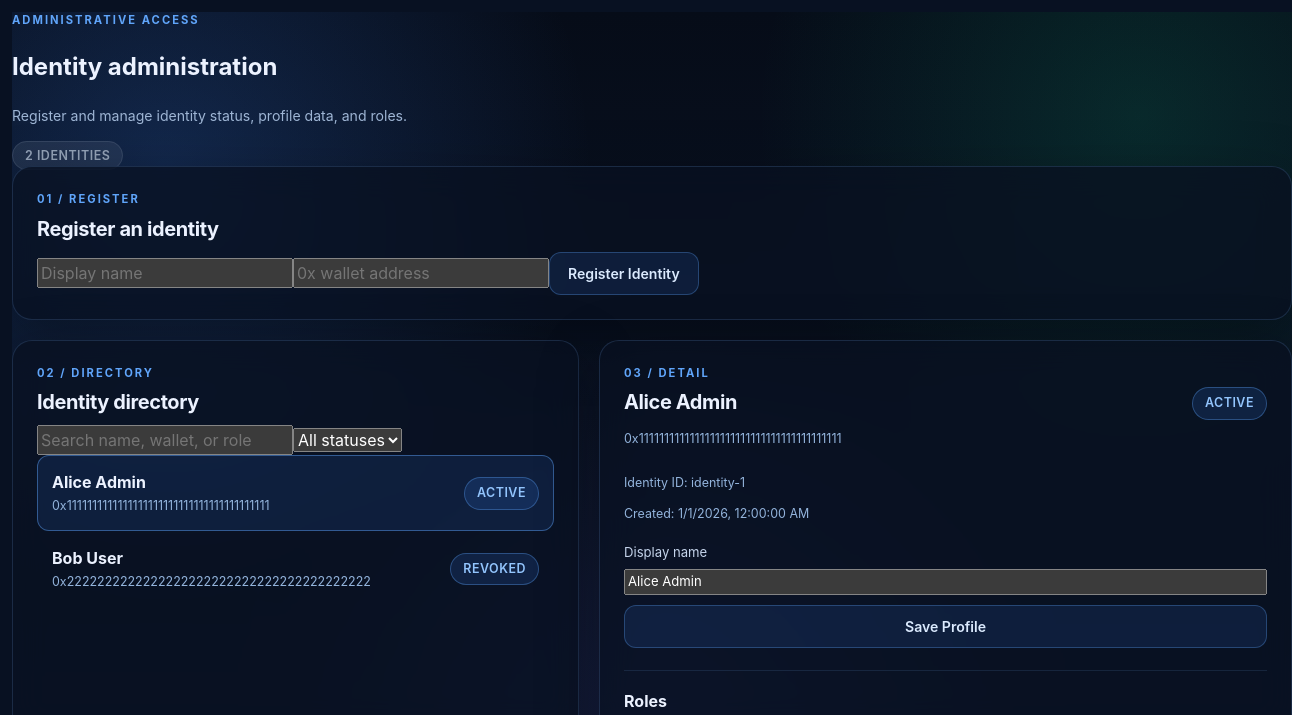
identity administration page › validates registration and refreshes after a successful mutation
The image size is (1292, 715).
Type "New Identity" into the field named "Identity display name".
click(165, 272); type("New Identity")  # box [37,258,293,288]
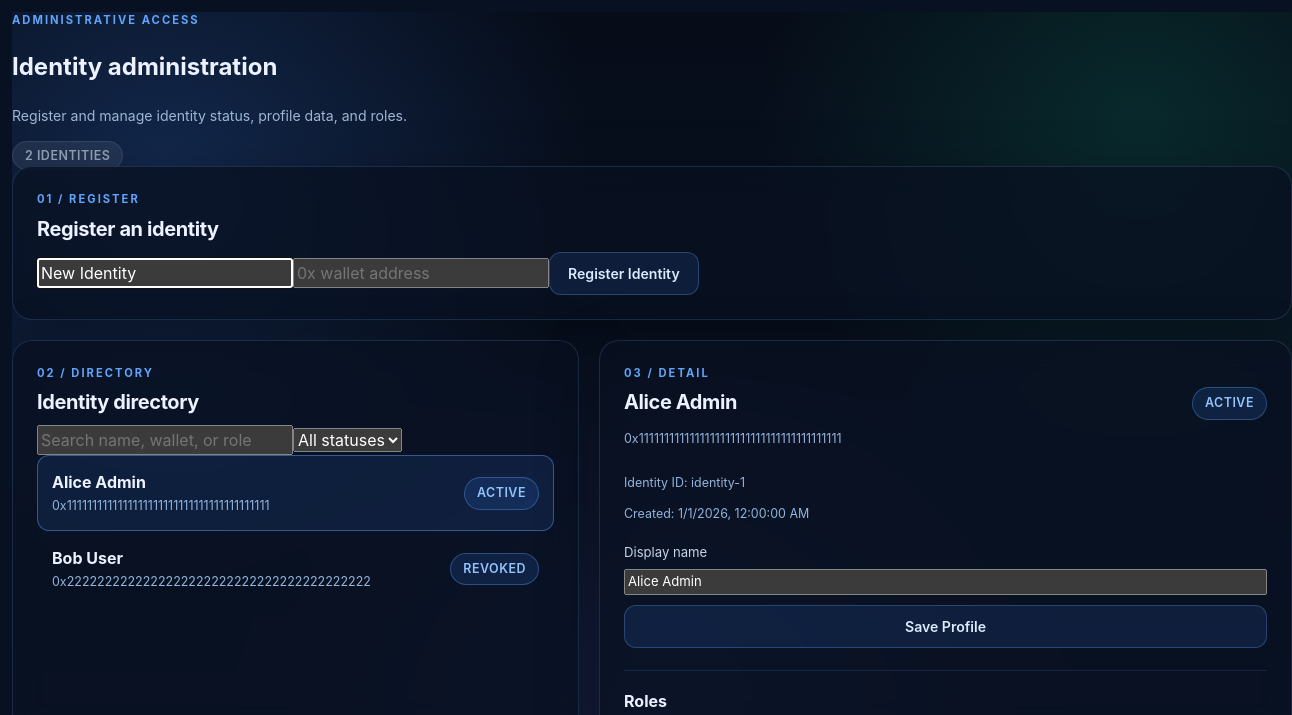
Type "not-a-wallet" into the field named "Identity wallet address".
click(421, 272); type("not-a-wallet")  # box [293,258,549,288]
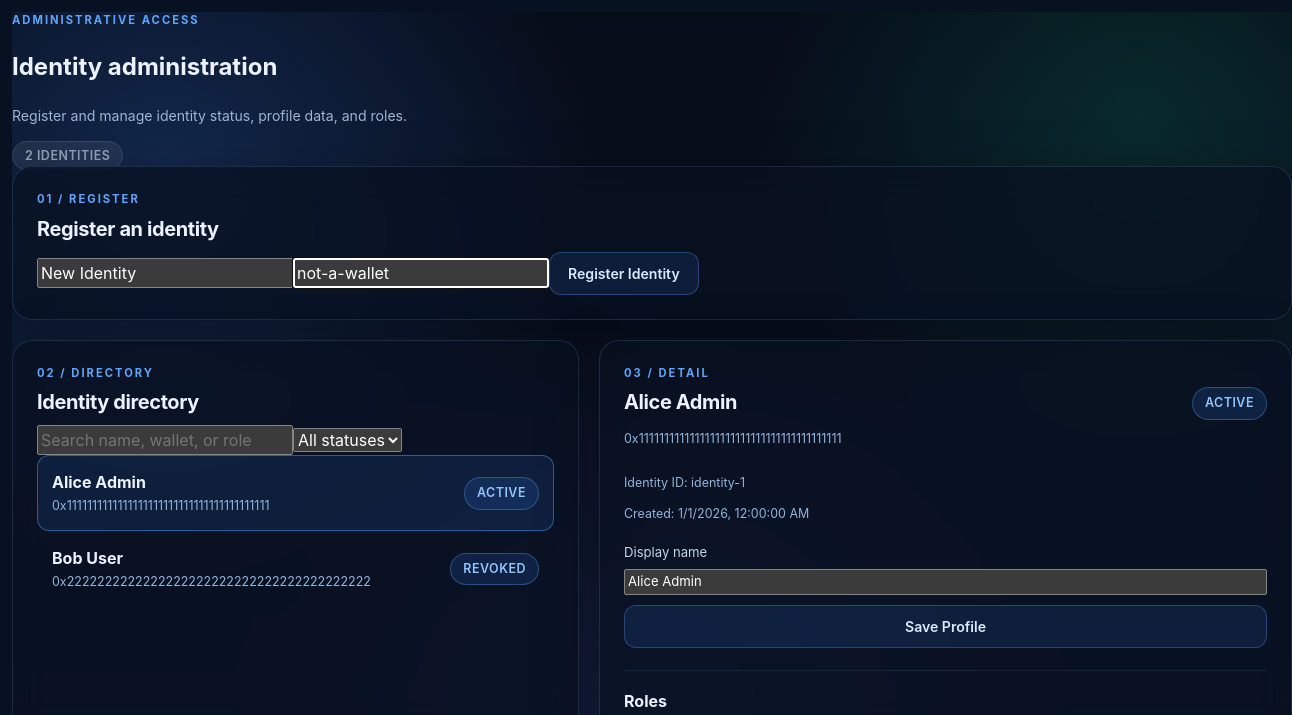
Click the button "Register identity".
click(624, 273)  # box [549,252,699,295]
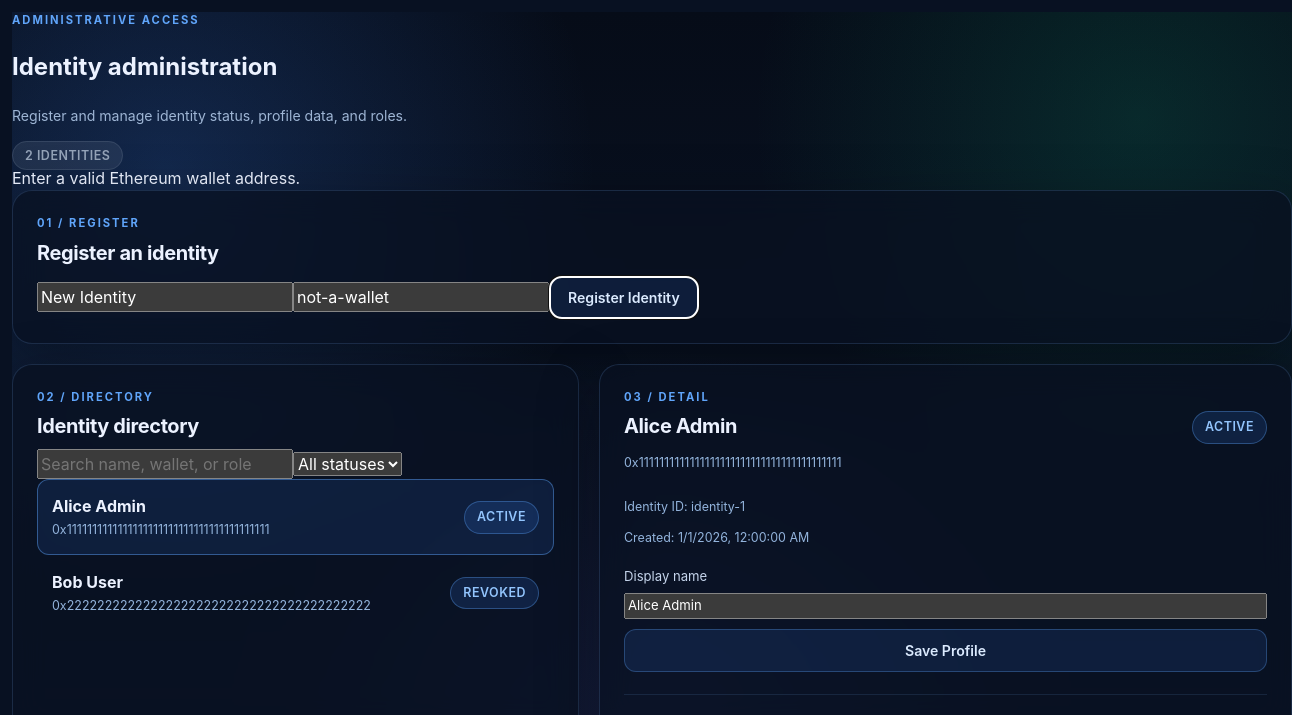
Now the message shows "valid Ethereum wallet", box [12,168,300,188]
Replace the text in the field named "Identity wallet address" with "0x3333333333333333333333333333333333333333" at (421, 296), box [293,282,549,312]
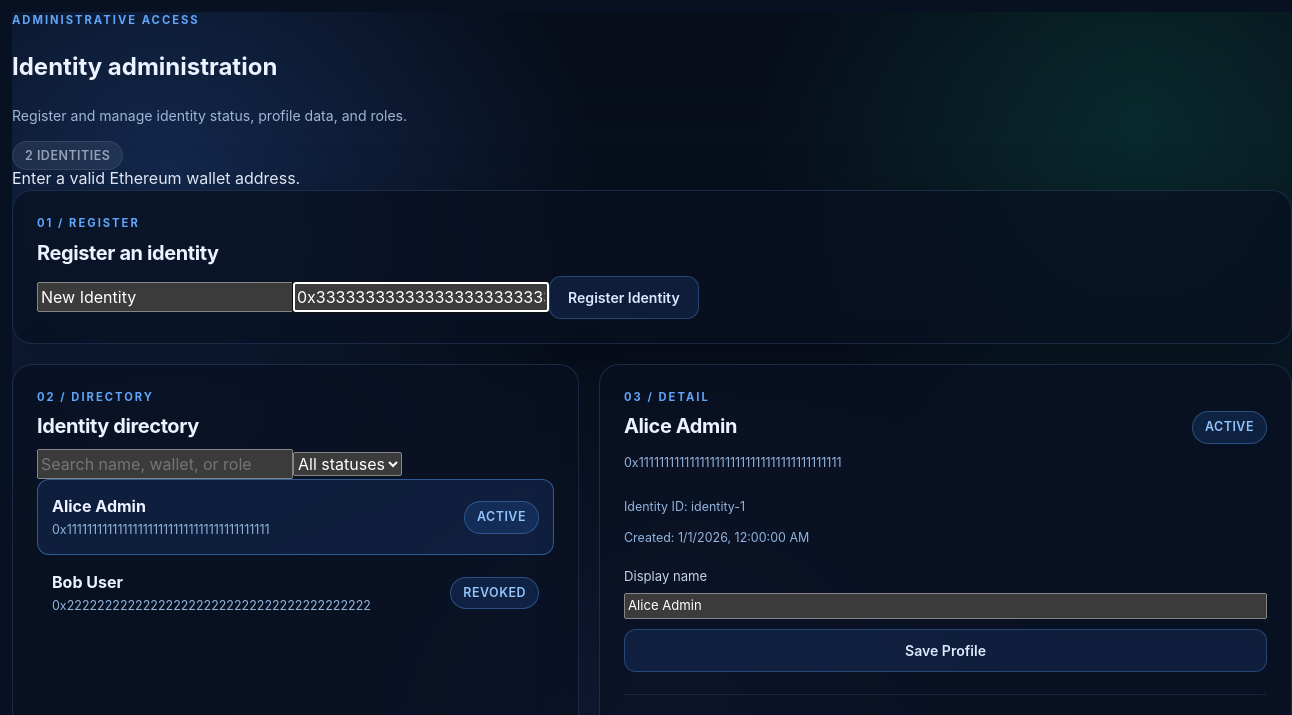
Click the button "Register identity".
click(624, 297)  # box [549,276,699,319]
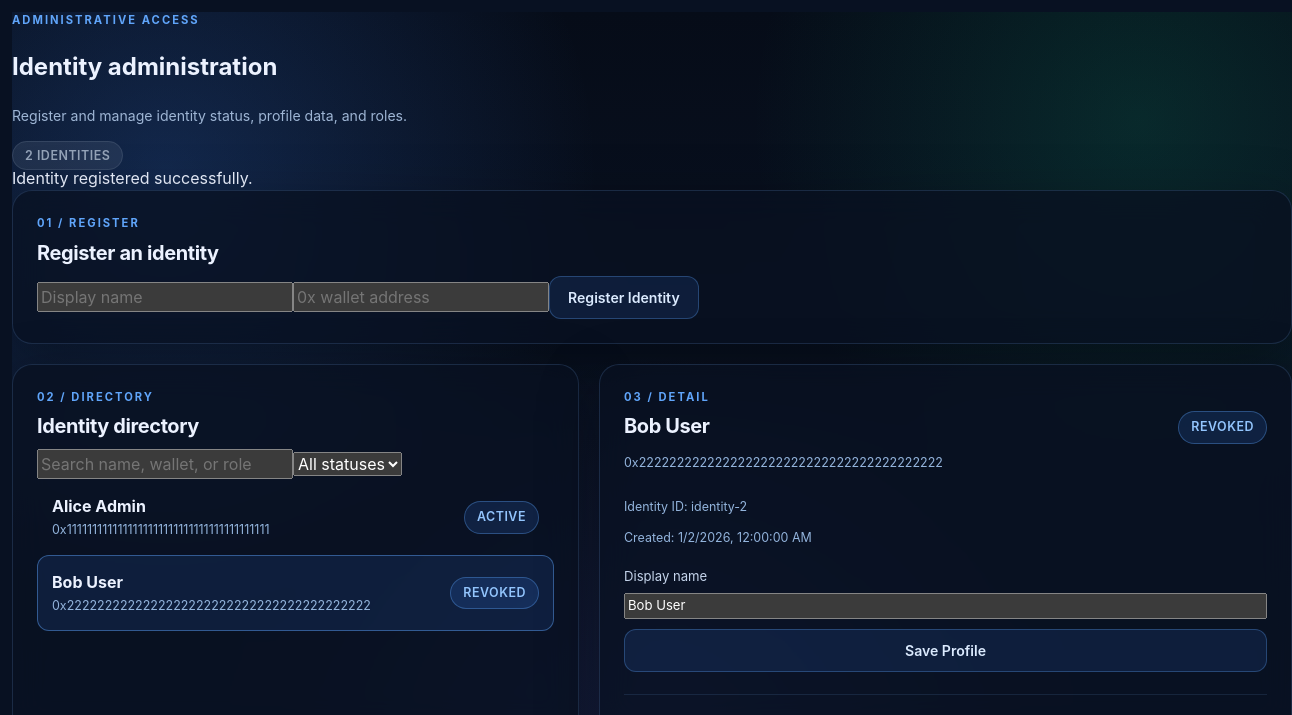
Now the message shows "registered successfully", box [12,168,252,188]
